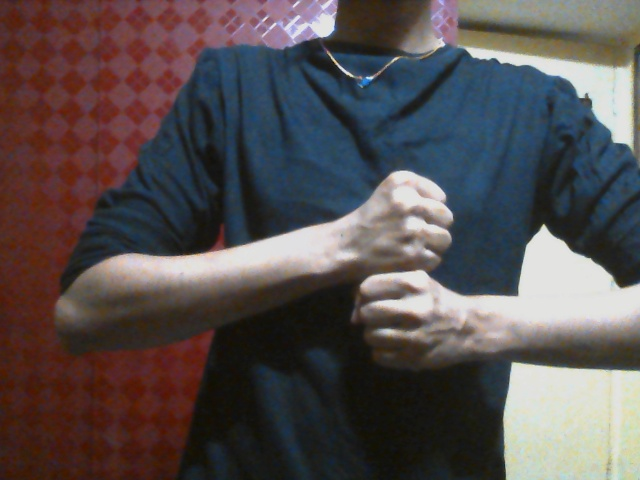G: (351, 170, 475, 374)
